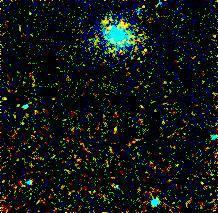star: (129, 37, 159, 67)
